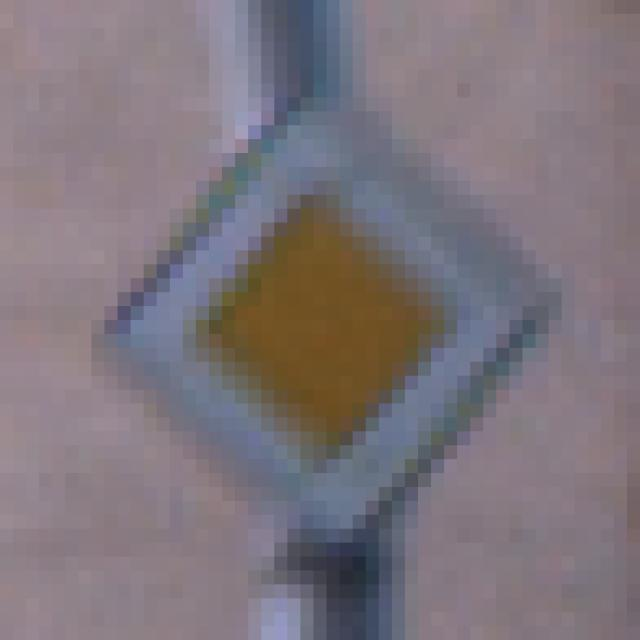Main Road: (79, 85, 576, 572)
